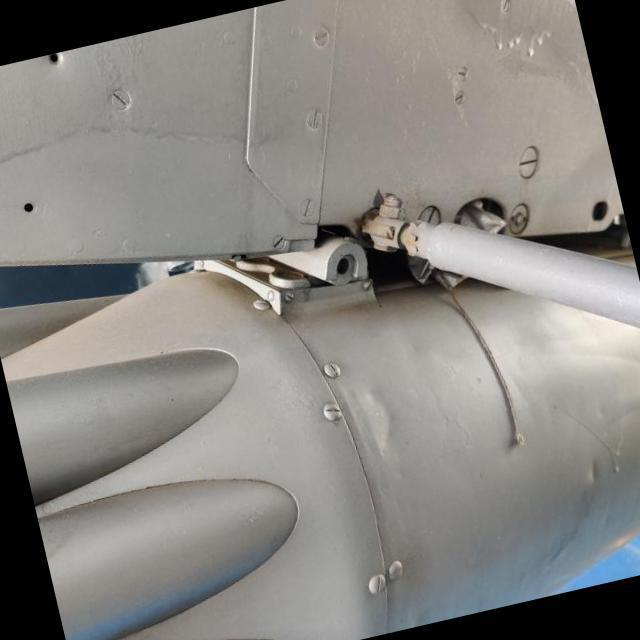Missing Fastener: (19, 196, 43, 218), (44, 53, 70, 73)
dent: (346, 384, 402, 454), (580, 454, 604, 488)
